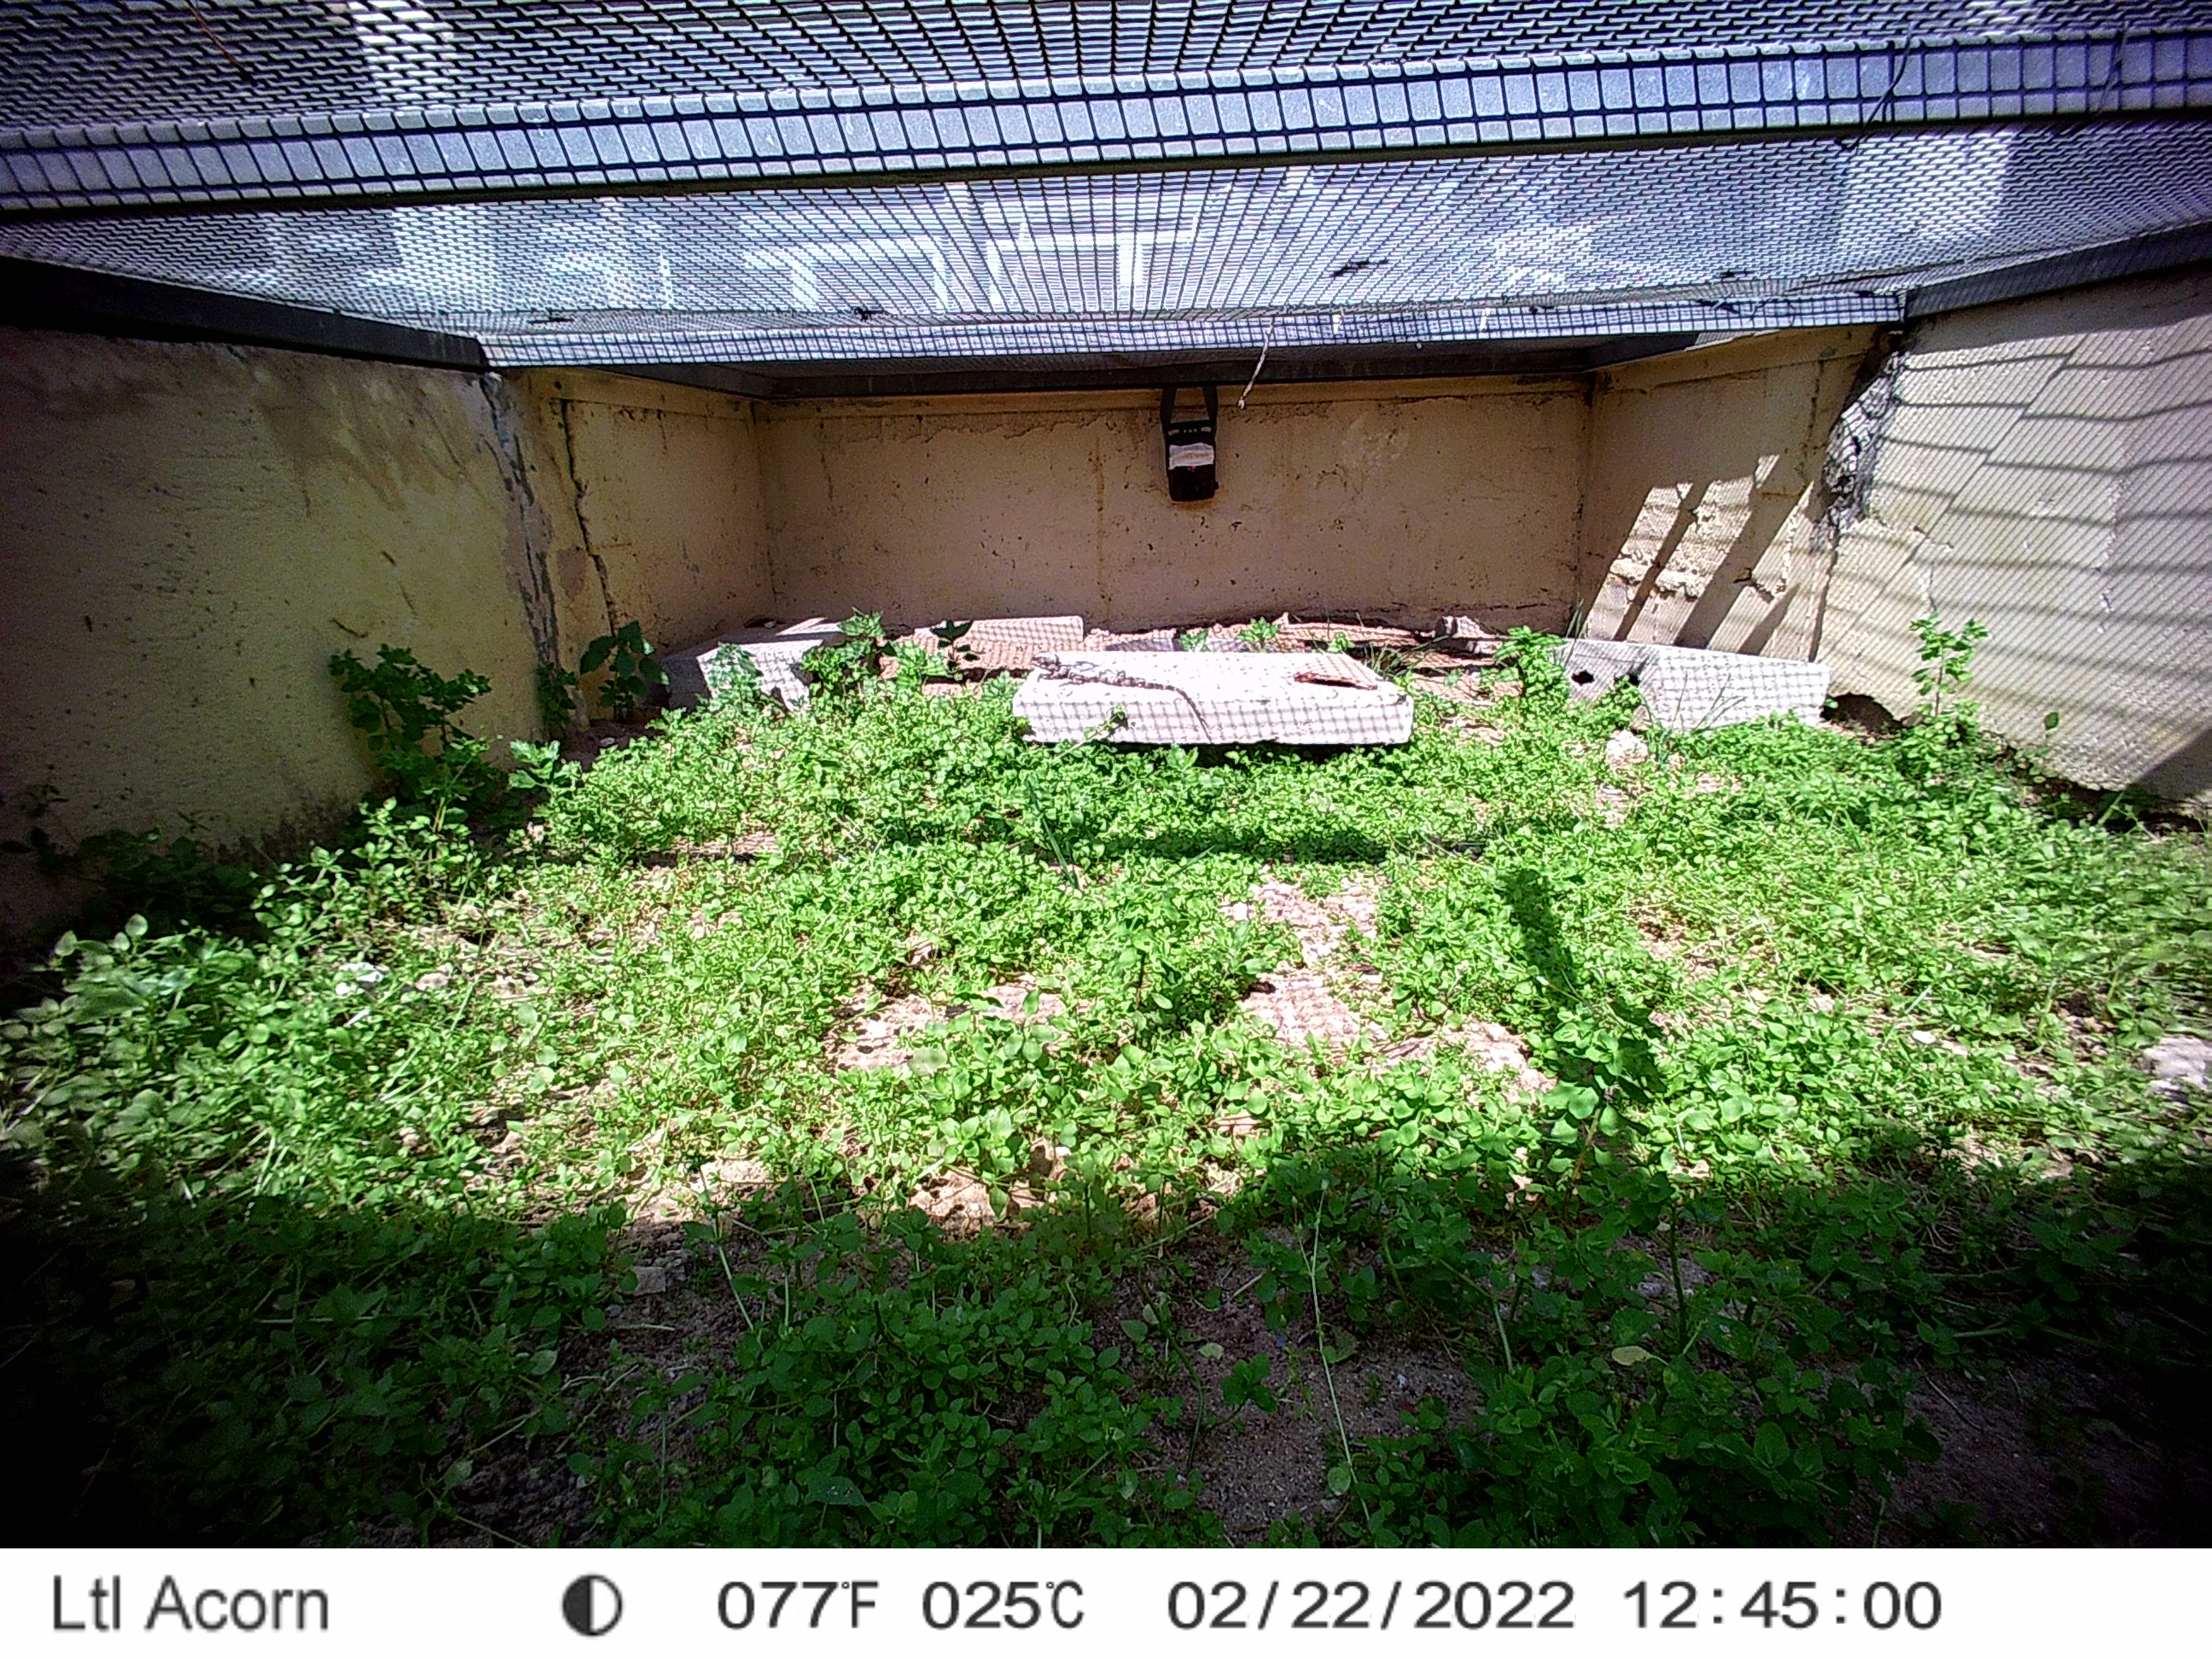lizard: (1029, 650, 1226, 723)
